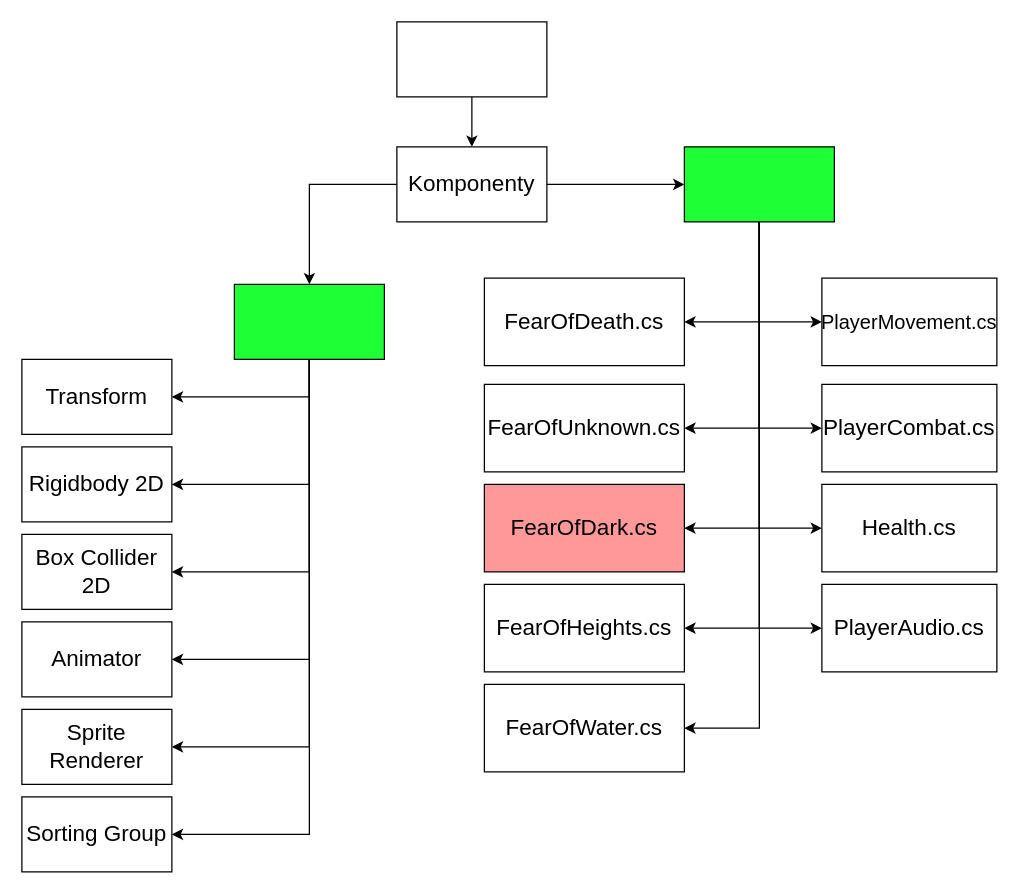
Some shapes in this 1019 by 894 pixel diagram are drawn without their labels. The centre of each missing label's shape, as x and y in pixels:
"Hlavní postava" belongs at pixel 471 59.
"Skripty" belongs at pixel 758 184.
"Unity komponenty" belongs at pixel 308 321.
